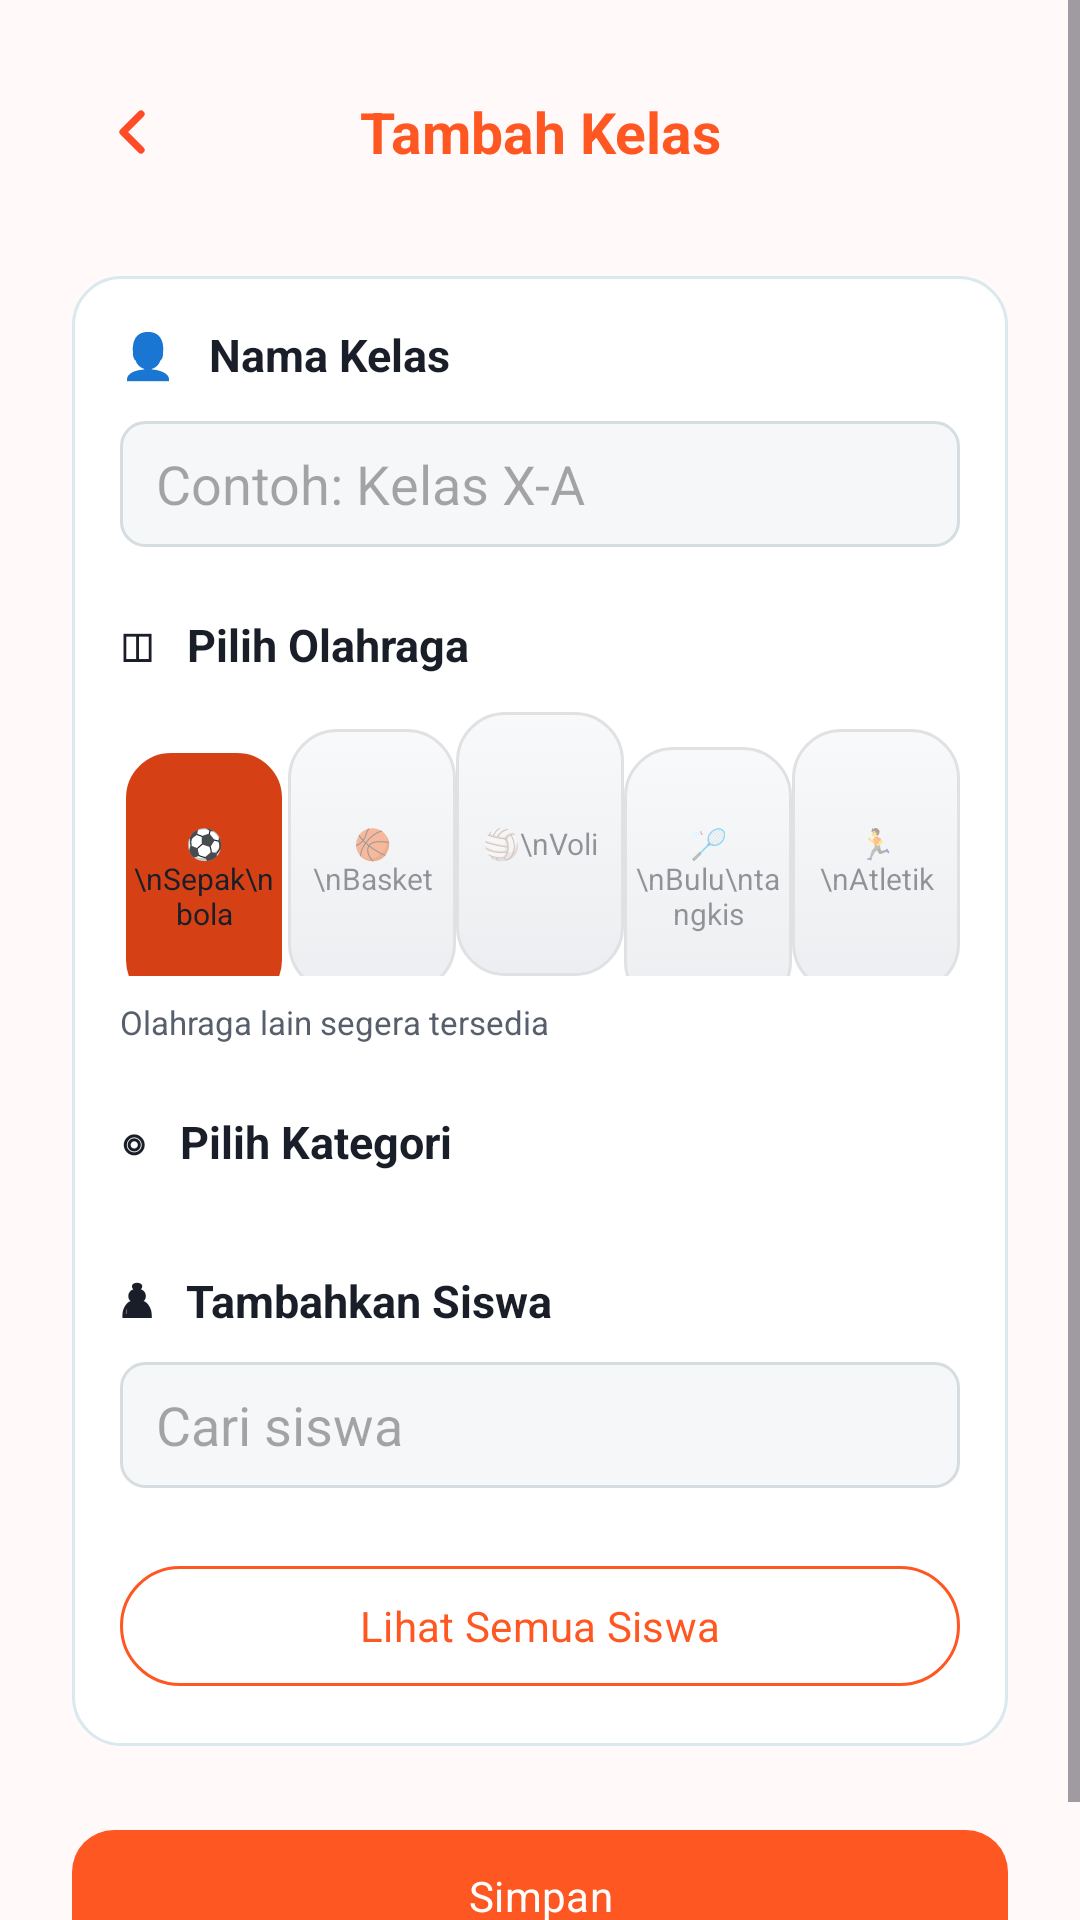

Icons on this 1080 × 1920 Android screen, each with the point to tap as (x=x, y=y):
Kembali: (x=132, y=132)
